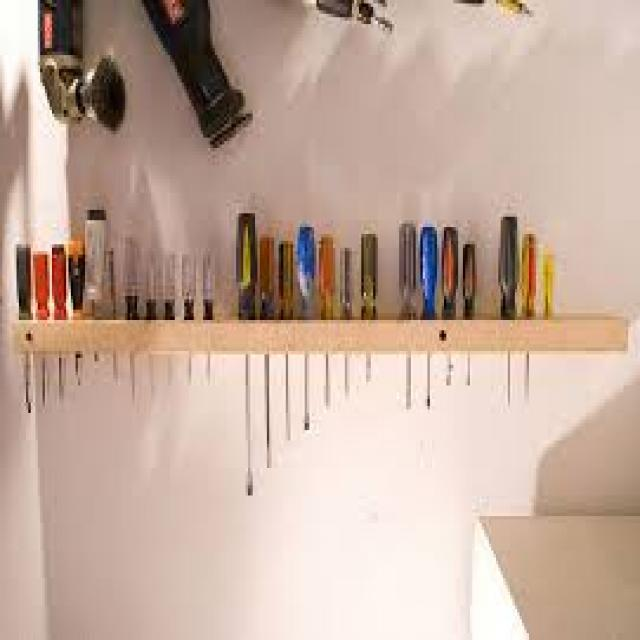Screwdriver: (237, 201, 261, 509), (493, 198, 522, 439), (294, 213, 321, 457), (356, 216, 390, 398), (116, 231, 148, 416), (397, 214, 424, 418), (276, 234, 300, 454), (418, 216, 442, 435), (257, 231, 278, 478), (84, 207, 112, 386), (518, 226, 544, 417), (139, 249, 168, 409), (459, 227, 484, 409), (440, 219, 462, 411), (539, 238, 568, 381), (66, 237, 92, 392), (318, 222, 338, 418), (51, 241, 73, 413), (158, 248, 183, 398), (14, 238, 34, 423), (336, 242, 358, 408), (198, 242, 220, 405), (176, 246, 198, 394), (34, 245, 50, 417)
